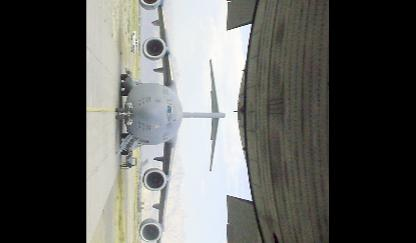C2: (115, 0, 227, 242), (138, 156, 148, 187)
